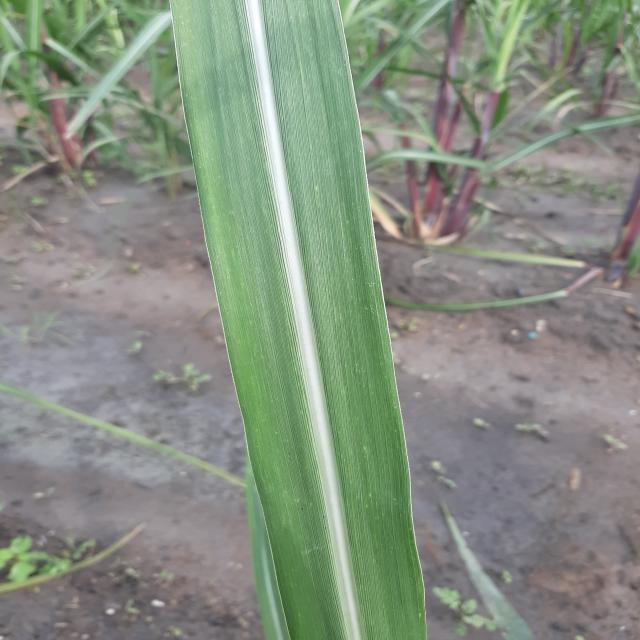Sugarcane: (168, 0, 428, 639)
